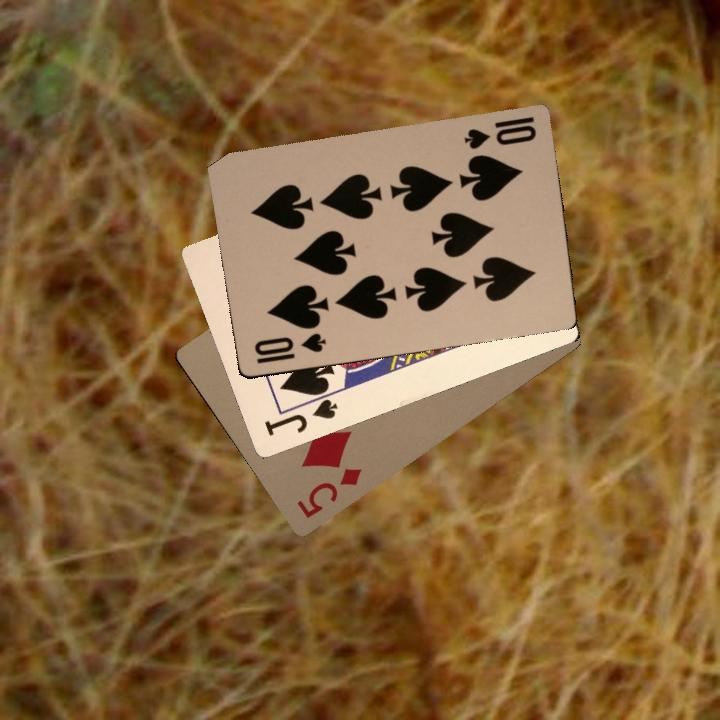10s: (460, 112, 539, 152), (250, 328, 328, 366)
5d: (293, 464, 364, 522)
Js: (260, 389, 339, 439)
